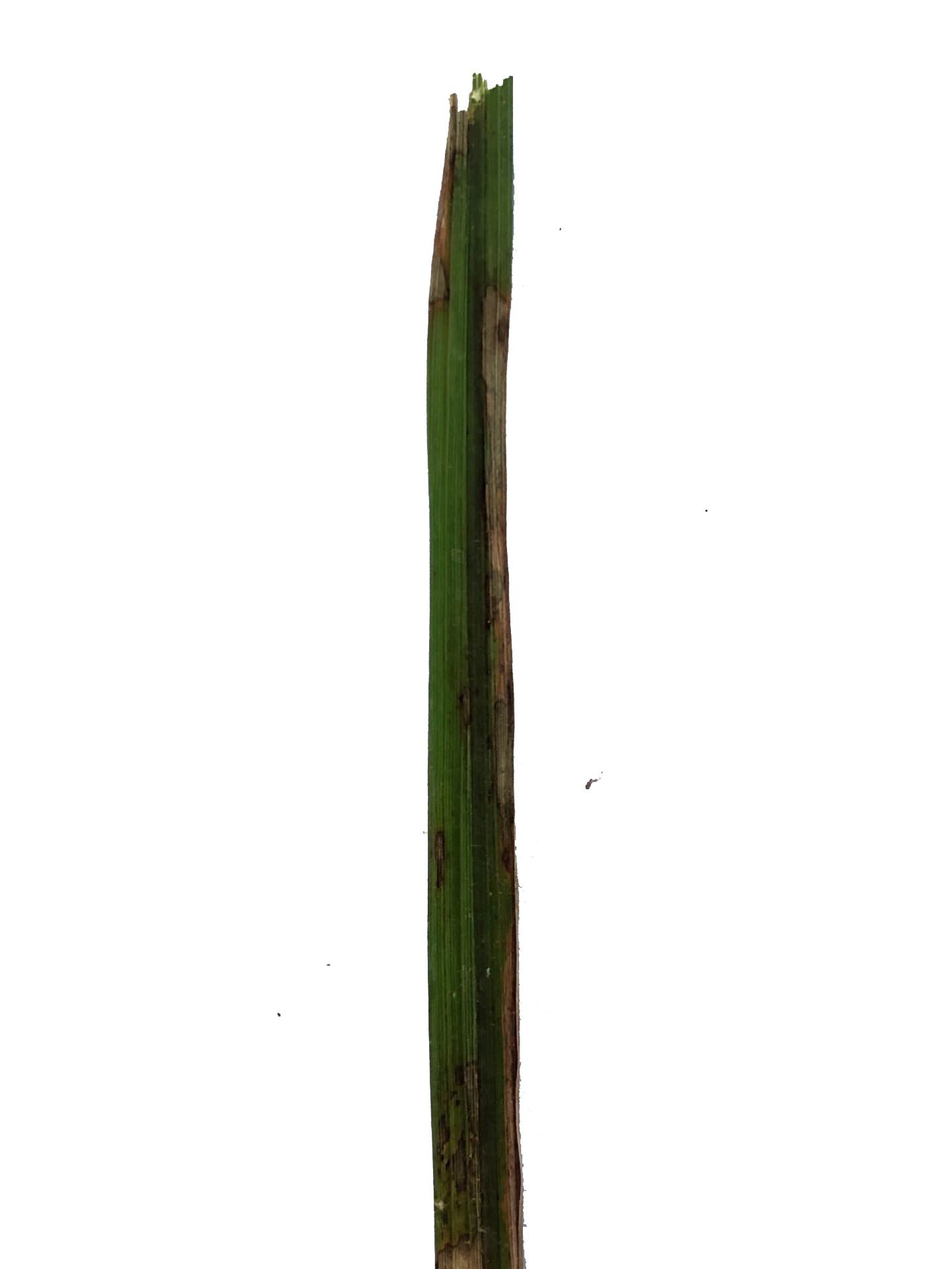Blight: (489, 288, 526, 1269), (426, 1041, 522, 1269), (426, 813, 456, 892)
